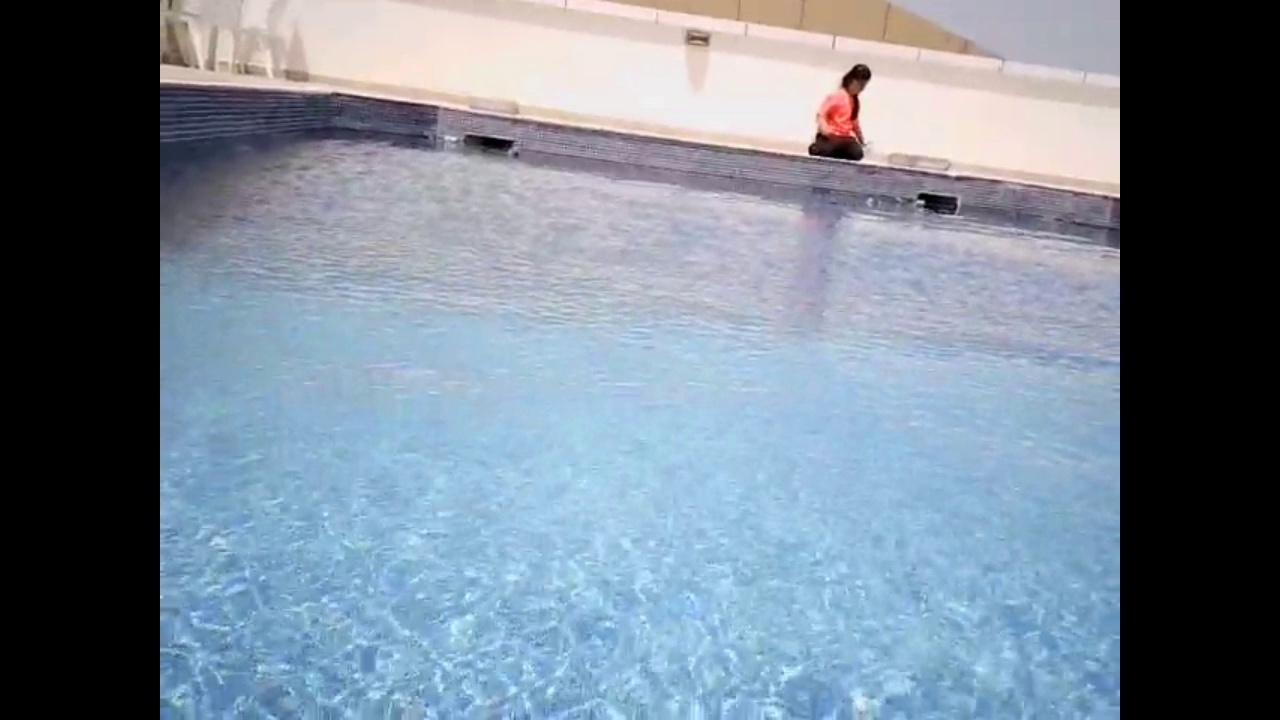debris: (503, 143, 524, 161), (910, 195, 930, 212), (439, 131, 458, 147), (863, 194, 880, 210), (887, 191, 905, 206)
